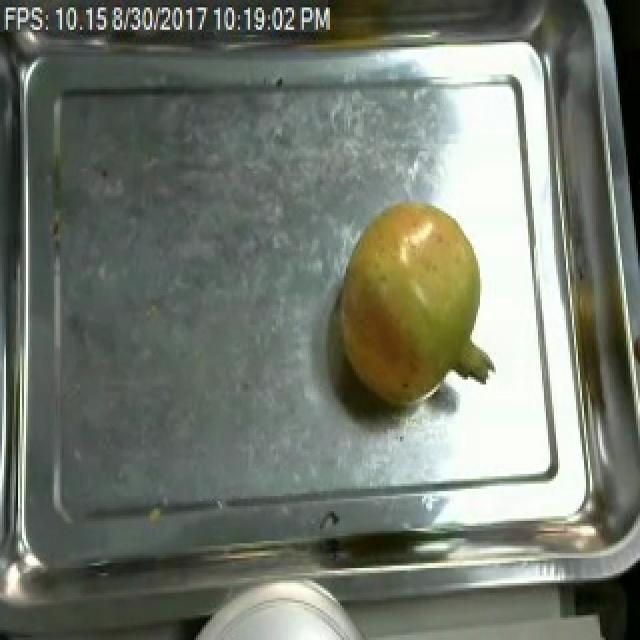fruit: (324, 189, 502, 424)
